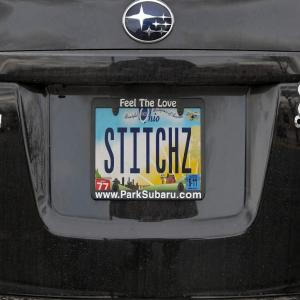Vehicle-registration-plate: (92, 97, 205, 202)
